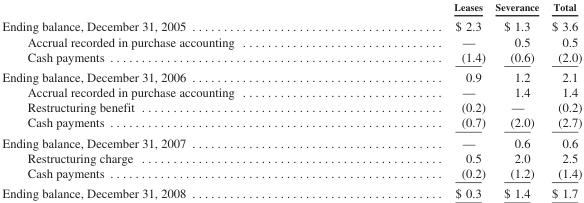table: (1, 0, 581, 199)
table column: (1, 0, 343, 199), (343, 0, 489, 199), (489, 0, 544, 199), (544, 0, 581, 199)
table column header: (1, 0, 581, 15)
table row: (1, 15, 581, 33), (1, 48, 581, 66), (1, 66, 581, 84), (1, 114, 581, 132), (1, 132, 581, 149), (1, 165, 581, 182), (1, 182, 581, 199), (1, 149, 581, 165), (1, 0, 581, 15), (1, 33, 581, 48), (1, 84, 581, 99), (1, 99, 581, 114)
